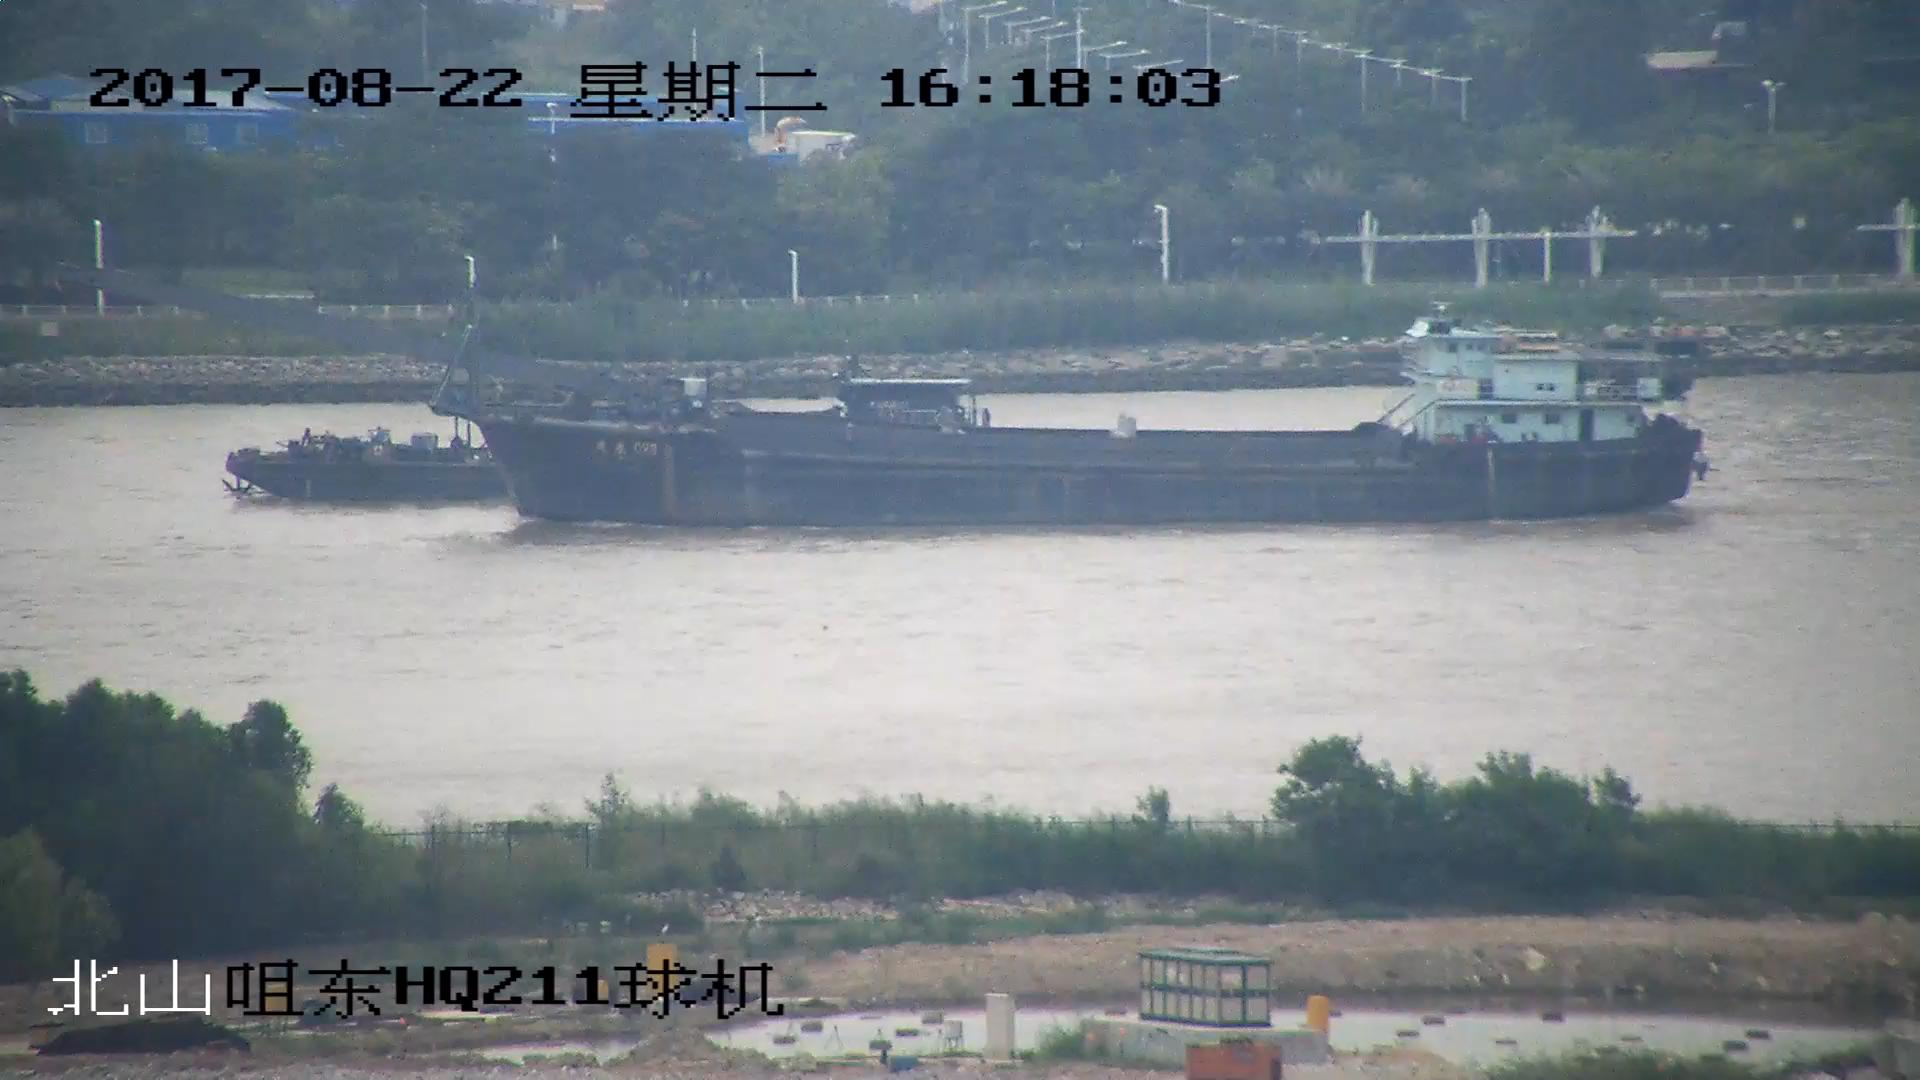bulk cargo carrier: (65, 261, 1710, 527), (229, 376, 1018, 505)
